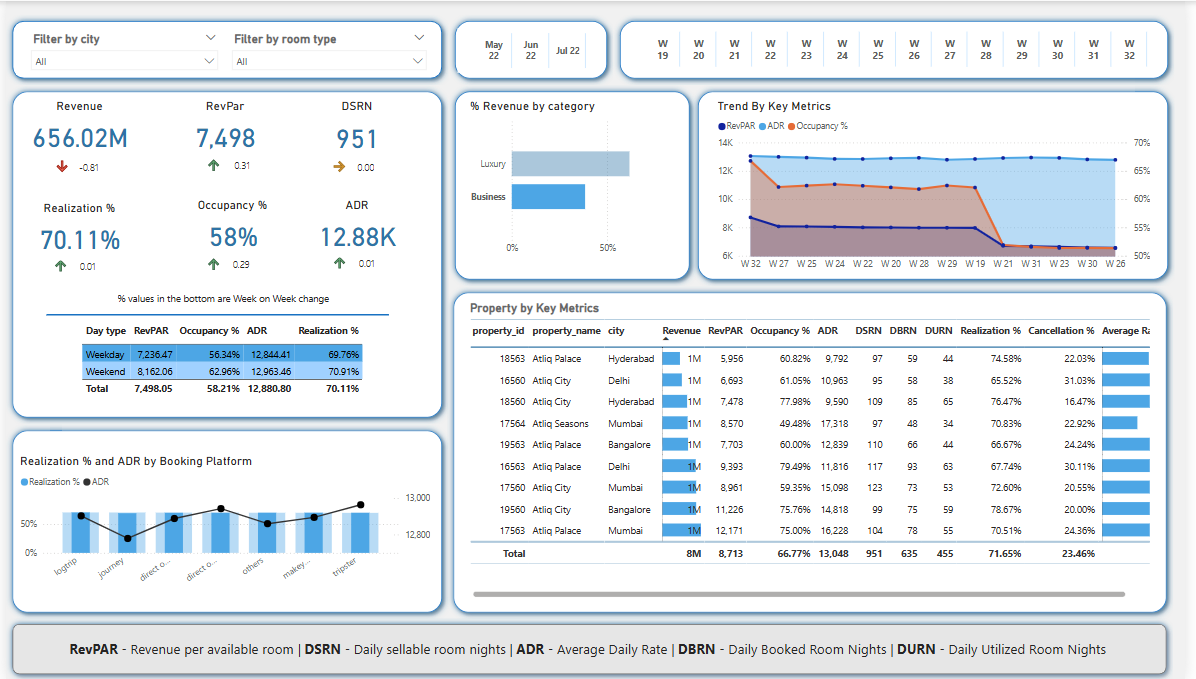

What the dashboard file says about the page in this screenshot:
{"tool":"powerbi","page":{"name":"Page 1","canvas":[1650,950],"ordinal":0},"visuals":[{"type":"shape","box":[0,18.9,619.1,98.6],"z":0},{"type":"shape","box":[850,18.9,784.9,98.6],"z":1000},{"type":"shape","box":[619.1,18.9,230.9,98.6],"z":2000},{"type":"shape","box":[959.1,117.5,675.8,281.2],"z":3000},{"type":"shape","box":[619.1,117.5,346.3,281.2],"z":4000},{"type":"shape","box":[617,398.8,1015.8,465.9],"z":5000},{"type":"shape","box":[0,591.8,619.1,272.8],"z":6000},{"type":"shape","box":[0,117.5,619.1,474.3],"z":7000},{"type":"tableEx","title":"Revenue","fields":{"Values":["key_measures.ADR WoW change %"]},"box":[447,327.4,88.1,60.9],"z":8000},{"type":"tableEx","title":"Revenue","fields":{"Values":["key_measures.Occupancy WoW change %"]},"box":[270.7,329.5,90.2,58.8],"z":9000},{"type":"tableEx","title":"Revenue","fields":{"Values":["key_measures.Realisation WoW change %"]},"box":[56.7,331.6,88.1,60.9],"z":10000},{"type":"tableEx","title":"Revenue","fields":{"Values":["key_measures.DSRN WoW change %"]},"box":[447,193.1,88.1,58.8],"z":11000},{"type":"tableEx","title":"Revenue","fields":{"Values":["key_measures.Revenue WoW change %"]},"box":[58.8,193.1,90.2,58.8],"z":12000},{"type":"tableEx","title":"Property by Key Metrics","fields":{"Values":["dim_hotels.property_id","dim_hotels.property_name","dim_hotels.city","key_measures.Revenue","key_measures.RevPAR","key_measures.Occupancy %","key_measures.ADR","key_measures.DSRN","key_measures.DBRN","key_measures.DURN","key_measures.Realization %","key_measures.Cancellation %"]},"box":[644.3,419.7,961.2,419.7],"z":13000},{"type":"slicer","fields":{"Values":["dim_hotels.city"]},"box":[25.2,37.8,281.2,63],"z":14000},{"type":"slicer","fields":{"Values":["dim_rooms.room_class"]},"box":[306.4,37.8,291.7,63],"z":15000},{"type":"slicer","fields":{"Values":["dim_date.mmm yy"]},"box":[631.7,37.8,203.6,63],"z":16000},{"type":"slicer","fields":{"Values":["dim_date.week no"]},"box":[868.9,35.7,751.3,63],"z":17000},{"type":"card","title":"Revenue","fields":{"Values":["key_measures.Revenue"]},"box":[25.2,136.4,155.3,83.9],"z":18000},{"type":"donutChart","title":"% Revenue by category","fields":{"Category":["dim_hotels.category"],"Y":["key_measures.Revenue"]},"box":[644.3,136.4,293.8,226.7],"z":19000},{"type":"tableEx","title":"Revenue","fields":{"Values":["key_measures.Revpar WoW change %"]},"box":[270.7,191,90.2,58.8],"z":20000},{"type":"card","title":"DSRN","fields":{"Values":["key_measures.DSRN"]},"box":[413.4,136.4,155.3,86],"z":21000},{"type":"card","title":"RevPar","fields":{"Values":["key_measures.RevPAR"]},"box":[228.8,136.4,155.3,83.9],"z":22000},{"type":"card","title":"Occupancy %","fields":{"Values":["key_measures.Occupancy %"]},"box":[239.3,274.9,155.3,83.9],"z":23000},{"type":"card","title":"ADR","fields":{"Values":["key_measures.ADR"]},"box":[413.4,274.9,155.3,83.9],"z":24000},{"type":"card","title":"Realization %","fields":{"Values":["key_measures.Realization %"]},"box":[25.2,279.1,155.3,83.9],"z":25000},{"type":"lineChart","title":"Trend By Key Metrics","fields":{"Category":["dim_date.mmm yy.Variation.Date Hierarchy.Month","dim_date.week no"],"Y":["key_measures.RevPAR","key_measures.ADR"],"Y2":["key_measures.Occupancy %"]},"box":[990.6,136.4,614.9,249.7],"z":26000},{"type":"lineClusteredColumnComboChart","title":"Realization % and ADR by Booking Platform","fields":{"Category":["fact_bookings.booking_platform"],"Y":["key_measures.Realization %"],"Y2":["key_measures.ADR"]},"box":[14.7,633.8,583.4,191],"z":27000},{"type":"tableEx","fields":{"Values":["dim_date.day_type","key_measures.RevPAR","key_measures.Occupancy %","key_measures.ADR","key_measures.Realization %"]},"box":[100.7,442.8,417.6,125.9],"z":28000},{"type":"shape","box":[0,862.8,1632.6,88.4],"z":29000},{"type":"textbox","box":[83.7,888.4,1483.7,39.5],"z":30000},{"type":"shape","box":[55.8,402.3,479.1,72.1],"z":31000},{"type":"textbox","box":[151.2,400,314,34.9],"z":31001}]}

Visuals, with their boxes in screenshot pixels (x1, y1, x2, y2), scaled from the page's 1650x950 canvas onto the 1196x679 screenshot:
shape: bbox=(0, 14, 449, 84)
shape: bbox=(616, 14, 1185, 84)
shape: bbox=(449, 14, 616, 84)
shape: bbox=(695, 84, 1185, 285)
shape: bbox=(449, 84, 700, 285)
shape: bbox=(447, 285, 1184, 618)
shape: bbox=(0, 423, 449, 618)
shape: bbox=(0, 84, 449, 423)
"Revenue" tableEx: bbox=(324, 234, 388, 278)
"Revenue" tableEx: bbox=(196, 236, 262, 278)
"Revenue" tableEx: bbox=(41, 237, 105, 281)
"Revenue" tableEx: bbox=(324, 138, 388, 180)
"Revenue" tableEx: bbox=(43, 138, 108, 180)
"Property by Key Metrics" tableEx: bbox=(467, 300, 1164, 600)
slicer - dim_hotels.city: bbox=(18, 27, 222, 72)
slicer - dim_rooms.room_class: bbox=(222, 27, 434, 72)
slicer - dim_date.mmm yy: bbox=(458, 27, 605, 72)
slicer - dim_date.week no: bbox=(630, 26, 1174, 71)
"Revenue" card: bbox=(18, 97, 131, 157)
"% Revenue by category" donutChart: bbox=(467, 97, 680, 260)
"Revenue" tableEx: bbox=(196, 137, 262, 179)
"DSRN" card: bbox=(300, 97, 412, 159)
"RevPar" card: bbox=(166, 97, 278, 157)
"Occupancy %" card: bbox=(173, 196, 286, 256)
"ADR" card: bbox=(300, 196, 412, 256)
"Realization %" card: bbox=(18, 199, 131, 259)
"Trend By Key Metrics" lineChart: bbox=(718, 97, 1164, 276)
"Realization % and ADR by Booking Platform" lineClusteredColumnComboChart: bbox=(11, 453, 434, 590)
tableEx - dim_date.day_type x key_measures.RevPAR: bbox=(73, 316, 376, 406)
shape: bbox=(0, 617, 1183, 678)
textbox: bbox=(61, 635, 1136, 663)
shape: bbox=(40, 288, 388, 339)
textbox: bbox=(110, 286, 337, 311)
